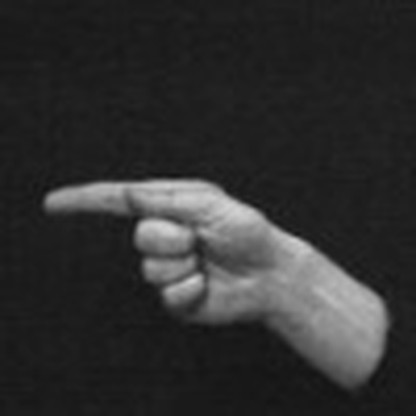g: (37, 159, 285, 342)
